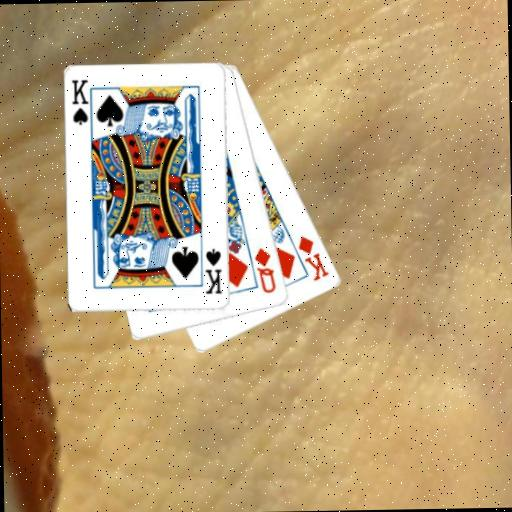KD: (295, 232, 331, 283)
KS: (70, 77, 96, 131), (203, 245, 224, 296)
QD: (252, 245, 278, 296)
